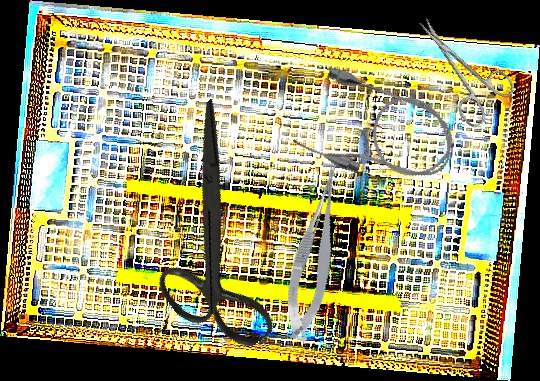Cannula: (290, 62, 465, 201)
Iris Scissors: (86, 98, 344, 371), (400, 0, 521, 131)
Micro Scissor: (270, 162, 363, 344)
